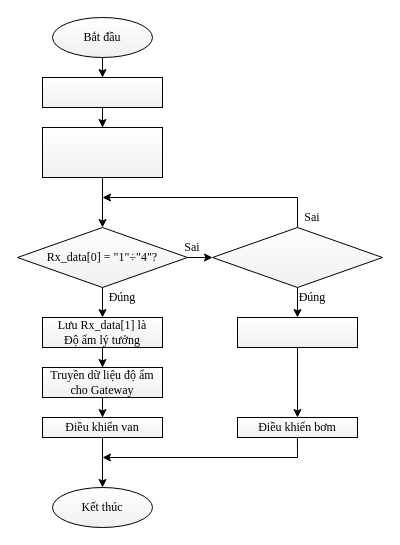
Image size: 400x545. Some labels were removed from this diagram. Each missing label, with the centre of its shape:
Khởi tạo ADC, UART, PWM: the point at 102,92
Lưu Rx_data[1] là Công suất bơm: the point at 297,332
Nhận và gán tín hiệu có 2 kí tự từ Gateway cho mảng Rx_data[2]: the point at 102,152
Rx_data[0] = "P"?: the point at 297,257
